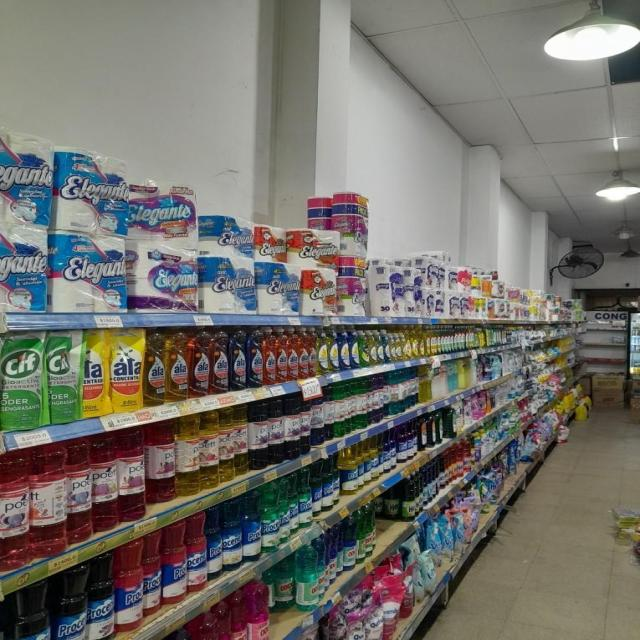ala_conc_amarillo: (165, 329, 188, 401), (144, 330, 165, 406)
ala_conc_azul: (229, 327, 246, 391), (247, 328, 262, 388)
ala_conc_rojo: (189, 329, 209, 397), (210, 329, 228, 394), (263, 327, 275, 385), (276, 327, 286, 383), (288, 327, 298, 381), (298, 327, 308, 379)
ala_crem_amarillo: (609, 514, 640, 640)
ala_sachet_amarillo: (110, 327, 142, 413), (82, 328, 109, 417)
cif_conc_sachet_verde: (0, 330, 44, 429), (46, 329, 80, 423)
magistral_con_amarillo: (328, 328, 339, 372), (318, 327, 328, 374), (369, 330, 377, 366), (392, 331, 399, 361)
magistral_con_azul: (340, 327, 350, 371), (350, 328, 359, 368)
